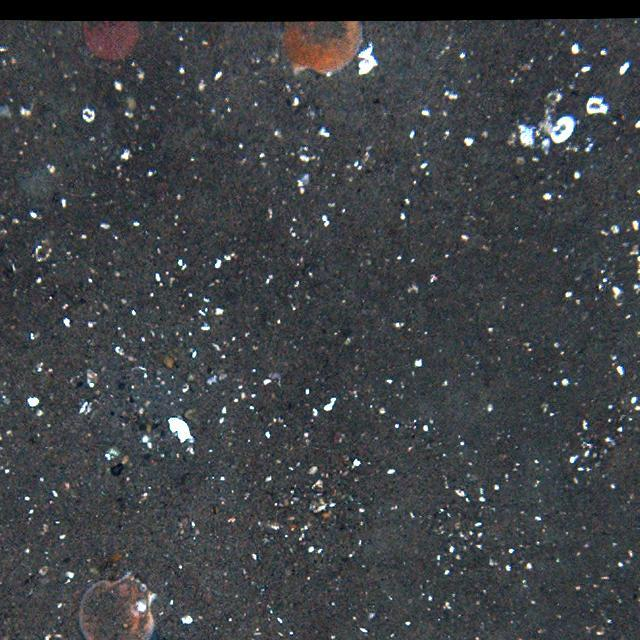scallop: (278, 19, 369, 75)
